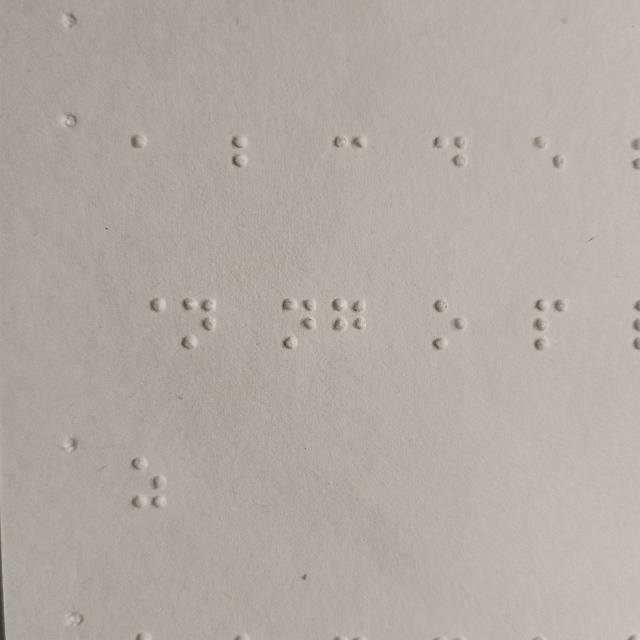dot_4: (135, 298, 168, 350)
letter_a: (130, 134, 164, 185)
letter_b: (232, 135, 265, 187)
letter_c: (333, 135, 366, 187)
letter_d: (432, 135, 465, 186)
letter_e: (532, 135, 565, 186)
letter_g: (333, 297, 366, 349)
letter_n: (284, 299, 317, 351), (183, 298, 216, 350)
letter_o: (434, 299, 467, 351)
letter_p: (534, 299, 567, 351)
letter_z: (132, 455, 165, 507)
